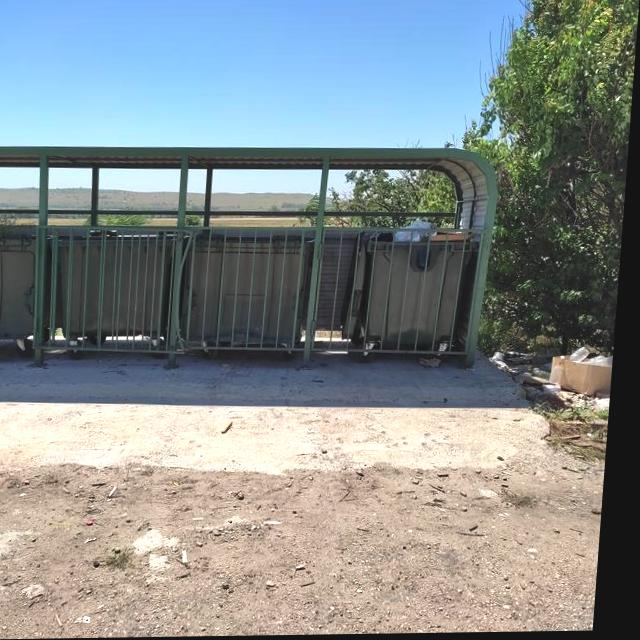Trash_Can_Empty: (44, 228, 181, 359), (186, 234, 316, 360), (0, 230, 63, 358)
Trash_Can_Full: (345, 219, 483, 366)
